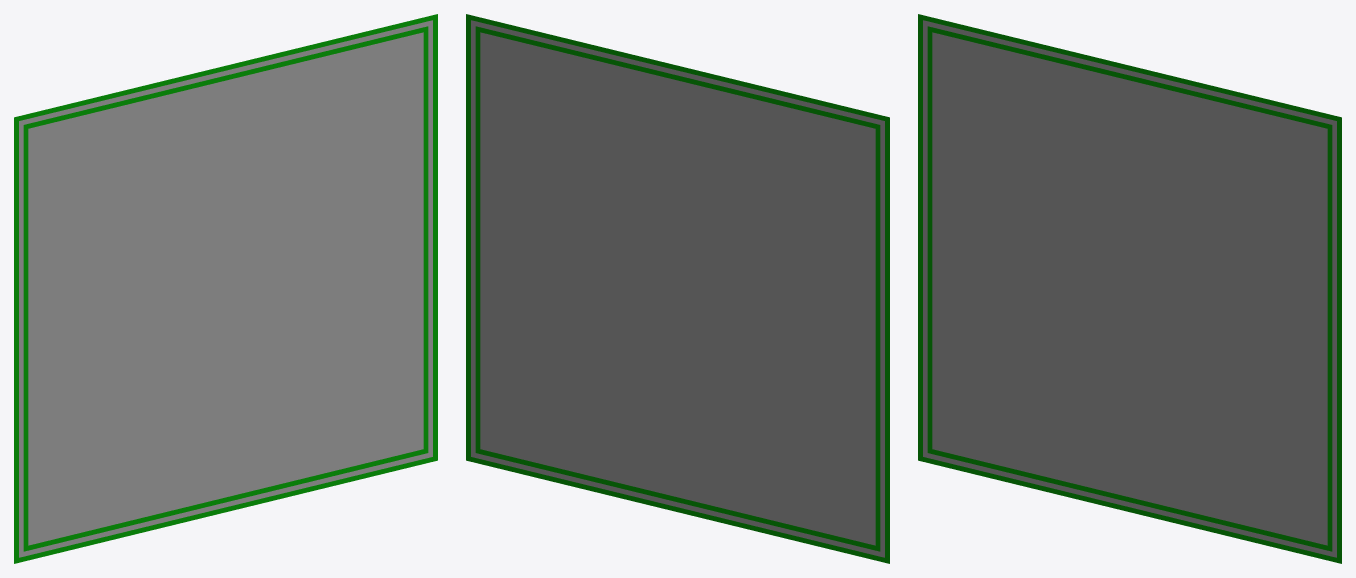
Rendered from PantallaPuzzle.fbx.
The picture shows the model from 3 angles, left to right: view 1: azimuth 30°, elevation 25°; view 2: azimuth 150°, elevation 25°; view 3: azimuth 330°, elevation 25°; orthographic projection.
Parts seen in each view (by area): view 1: PantallaTerminal1; view 2: PantallaTerminal1; view 3: PantallaTerminal1.
Boxes of the visible parts, x1,y1,x2,y2 form: PantallaTerminal1: [14, 14, 437, 563]; PantallaTerminal1: [466, 14, 889, 563]; PantallaTerminal1: [918, 14, 1341, 563].
Size of the model in its own units: 162 by 163 by 0.
